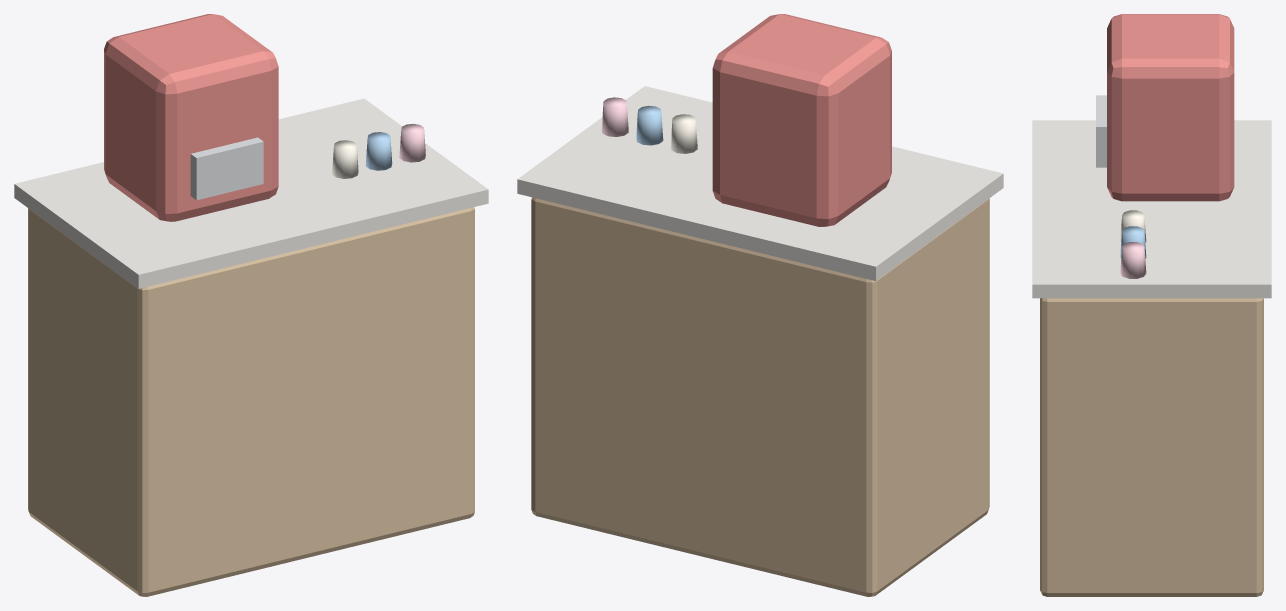
File: maquina_cafe.glb
3 renders of one model, left to right at view 1: azimuth 30°, elevation 25°; view 2: azimuth 150°, elevation 25°; view 3: azimuth 270°, elevation 25°, orthographic. The views are drawn at different scales.
Parts seen in each view (by area): view 1: maquina_cafe; view 2: maquina_cafe; view 3: maquina_cafe.
Part boxes in pixels (box(x1,y1,x2,y2)): maquina_cafe: box(14, 14, 488, 596); maquina_cafe: box(517, 14, 1003, 596); maquina_cafe: box(1032, 14, 1271, 596).
Bounding box in the file's own units: 1.04 × 1.36 × 0.64.
